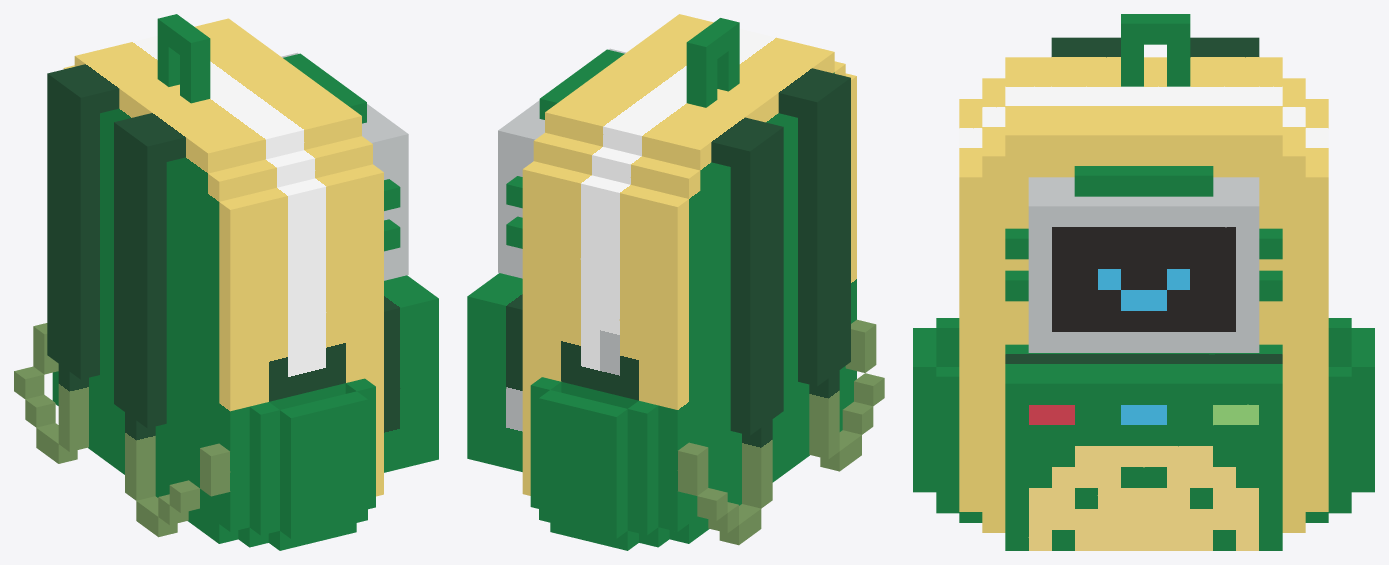
File: 黄色书包.gltf
3 views of the same model, side by side, from view 1: azimuth 30°, elevation 25°; view 2: azimuth 150°, elevation 25°; view 3: azimuth 270°, elevation 25° (orthographic). The views are drawn at different scales.
Parts seen in each view (by area): view 1: Object; view 2: Object; view 3: Object.
Boxes of the visible parts, <box> form: Object: <box>14,14,438,550</box>; Object: <box>467,14,884,550</box>; Object: <box>913,14,1374,550</box>.
Size of the model in its own units: 14 by 22 by 20.
1 material, 1 textured.
